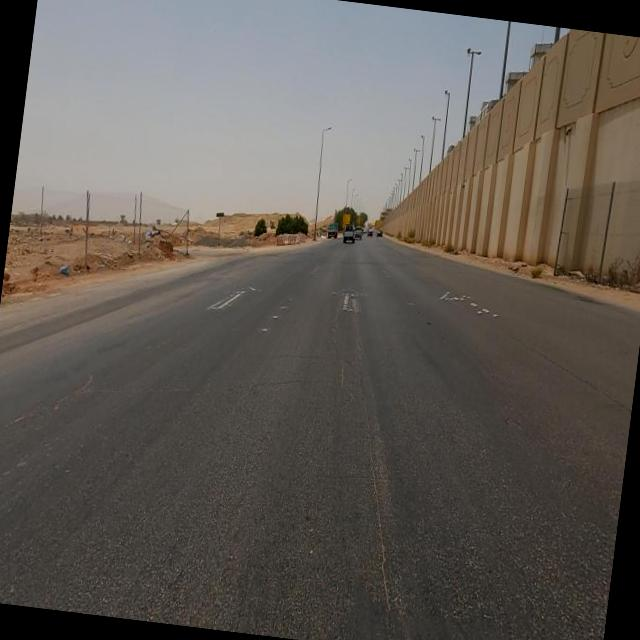debris: (138, 208, 174, 252), (53, 247, 83, 292)
